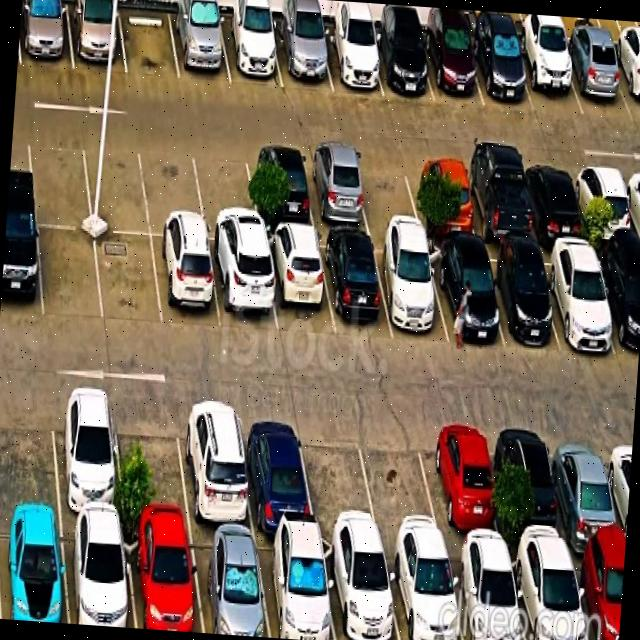empty: (357, 415, 444, 544), (298, 412, 380, 540), (113, 395, 190, 527), (0, 388, 59, 514), (191, 142, 260, 243), (81, 134, 150, 234), (140, 139, 206, 237), (95, 231, 162, 327), (27, 129, 92, 227), (38, 226, 102, 320), (352, 151, 421, 231), (118, 5, 179, 79)
occupied: (422, 417, 503, 548), (176, 400, 253, 531), (547, 424, 625, 552), (237, 405, 315, 533), (50, 389, 124, 521), (495, 421, 569, 550), (188, 529, 270, 637), (537, 244, 617, 352), (124, 524, 202, 633), (255, 534, 335, 640), (425, 243, 504, 347), (321, 537, 399, 640), (62, 518, 135, 628), (372, 238, 448, 343), (479, 246, 558, 346), (318, 233, 392, 336), (383, 545, 463, 640), (446, 545, 525, 640), (263, 231, 334, 335), (508, 548, 588, 640), (0, 516, 68, 623), (151, 236, 221, 329), (208, 242, 277, 333), (461, 158, 534, 243), (558, 39, 631, 118), (407, 155, 477, 237), (245, 146, 315, 228), (302, 149, 370, 229), (513, 37, 583, 114), (592, 247, 640, 359), (570, 162, 636, 243), (520, 161, 586, 240), (468, 31, 533, 110), (569, 551, 625, 640), (420, 28, 483, 105), (368, 29, 433, 101), (218, 14, 282, 87), (169, 9, 230, 84), (319, 25, 382, 96), (66, 2, 126, 72), (0, 219, 42, 318), (272, 22, 332, 89), (19, 0, 73, 68), (608, 45, 640, 118)
